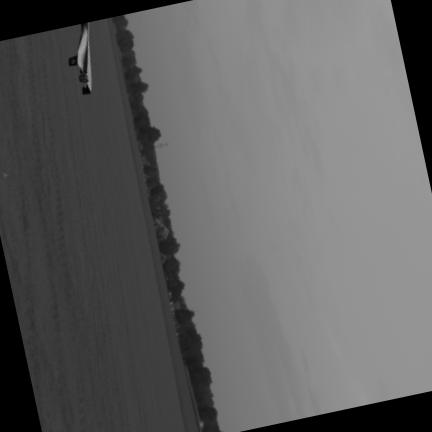Shahed: (68, 23, 91, 94)
